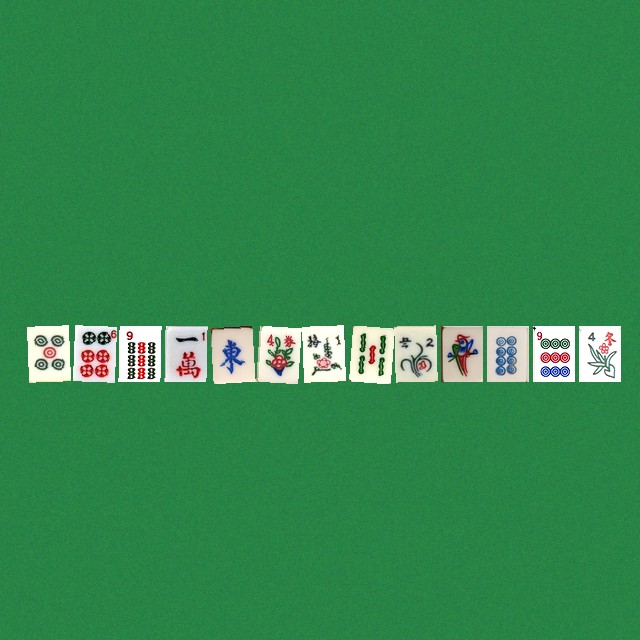tile: (26, 325, 68, 381), (72, 325, 114, 381), (118, 325, 160, 381), (164, 325, 206, 381), (210, 325, 252, 381), (256, 325, 298, 381), (302, 325, 344, 381), (348, 325, 390, 381), (394, 325, 436, 381), (440, 325, 482, 381), (486, 325, 528, 381), (532, 325, 574, 381), (578, 325, 620, 381)
